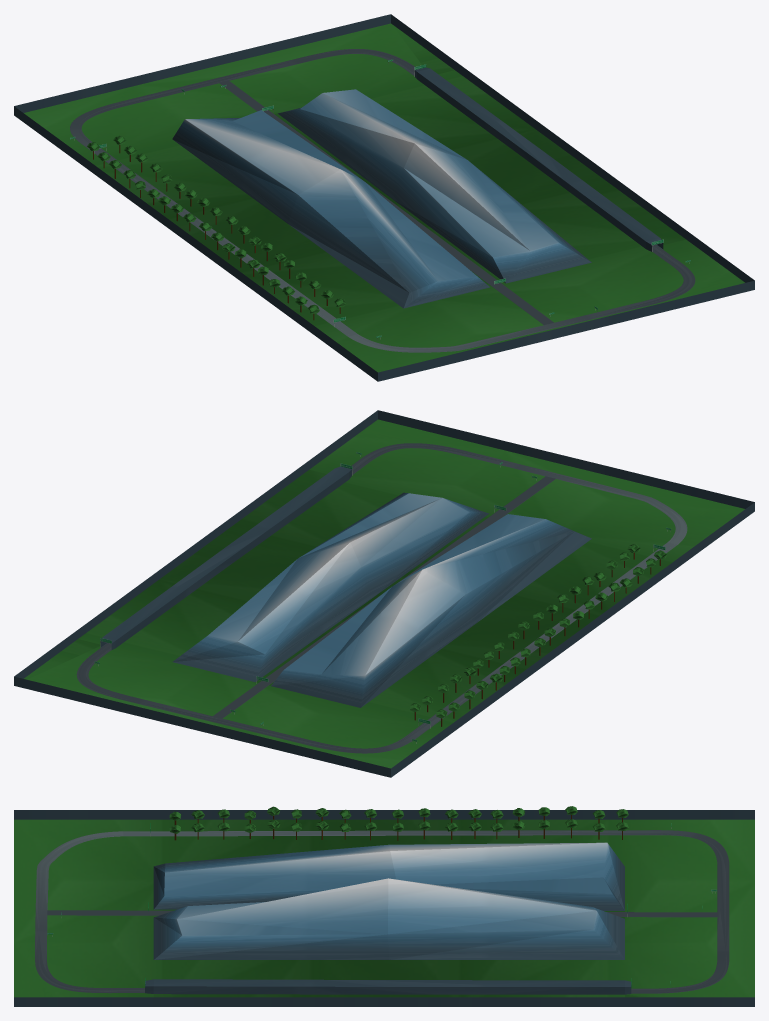
The model's file is map_mesh.fbx.
3 views of the same model, one above another, from view 1: azimuth 30°, elevation 25°; view 2: azimuth 150°, elevation 25°; view 3: azimuth 270°, elevation 25° (orthographic).
Parts seen in each view (by area): view 1: Plane001; view 2: Plane001; view 3: Plane001.
Boxes of the visible parts, x1,y1,x2,y2 form: Plane001: [14, 14, 754, 381]; Plane001: [14, 410, 754, 777]; Plane001: [14, 806, 754, 1006].
Bounding box in the file's own units: 19685 × 32915 × 2739.
